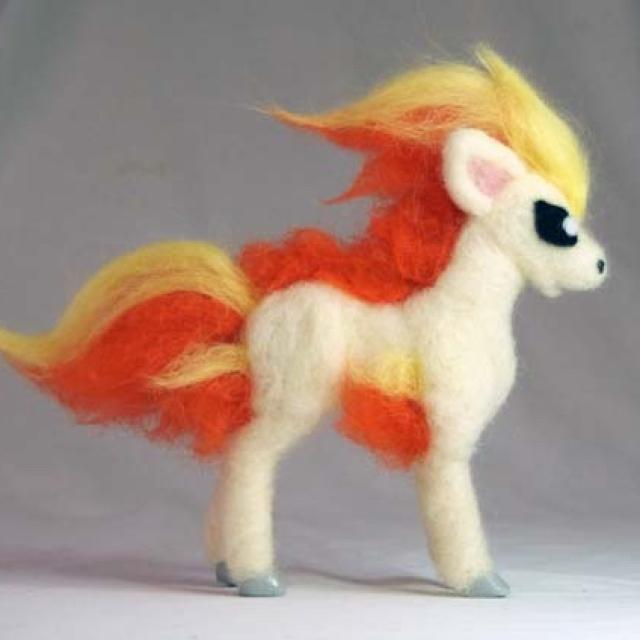Ponyta: (147, 71, 615, 595)
